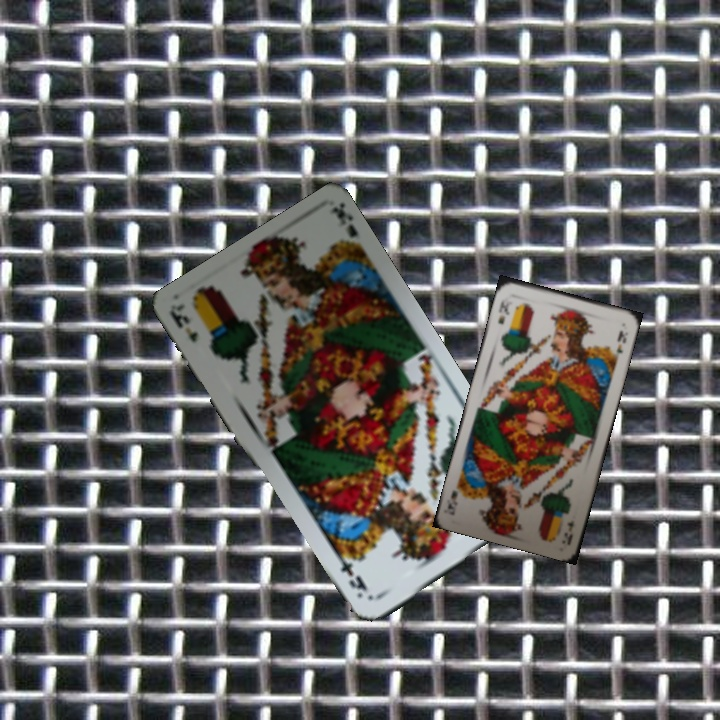EK: (167, 309, 201, 345), (494, 292, 515, 327), (560, 516, 577, 546)
